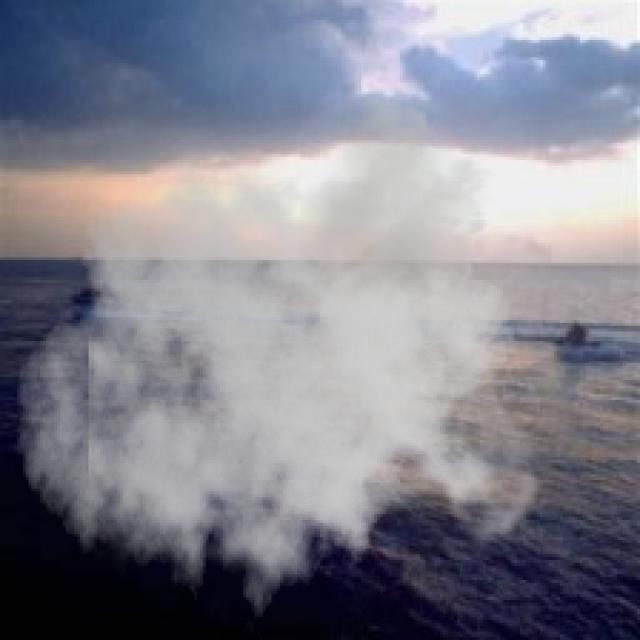smoke: (14, 100, 554, 637)
